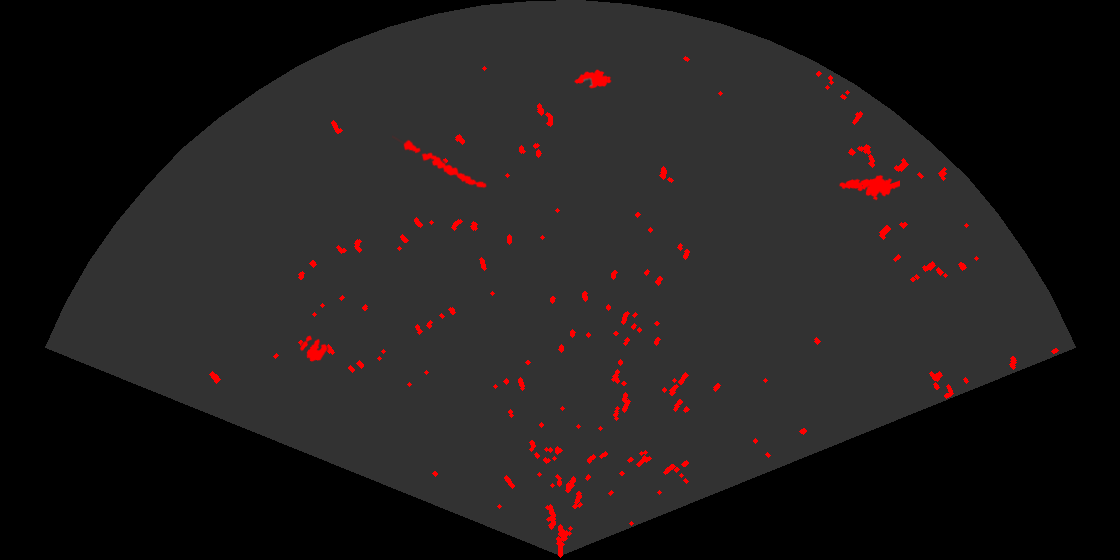AUV: (572, 68, 613, 90)
ball: (298, 334, 329, 363)
chain: (392, 134, 488, 190)
frogman: (837, 173, 900, 202)
